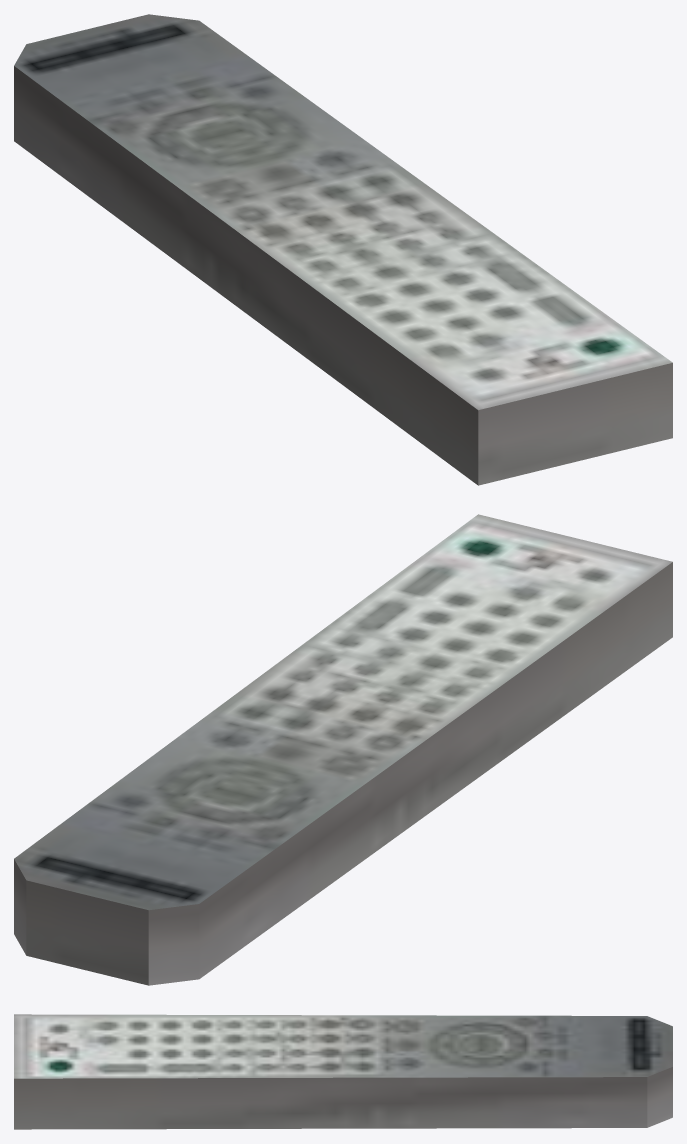
The model's file is Control_01.glb.
The picture shows the model from 3 angles, top to bottom: view 1: azimuth 30°, elevation 25°; view 2: azimuth 150°, elevation 25°; view 3: azimuth 270°, elevation 25°; orthographic projection. The views are drawn at different scales.
Visible parts, largest first — view 1: Control_01; view 2: Control_01; view 3: Control_01.
Boxes of the visible parts, x1,y1,x2,y2 form: Control_01: (14,14,672,485); Control_01: (14,514,672,985); Control_01: (14,1014,672,1129).
Size of the model in its own units: 0.1078 by 0.0399 by 0.4679.
1 material, 1 textured.
